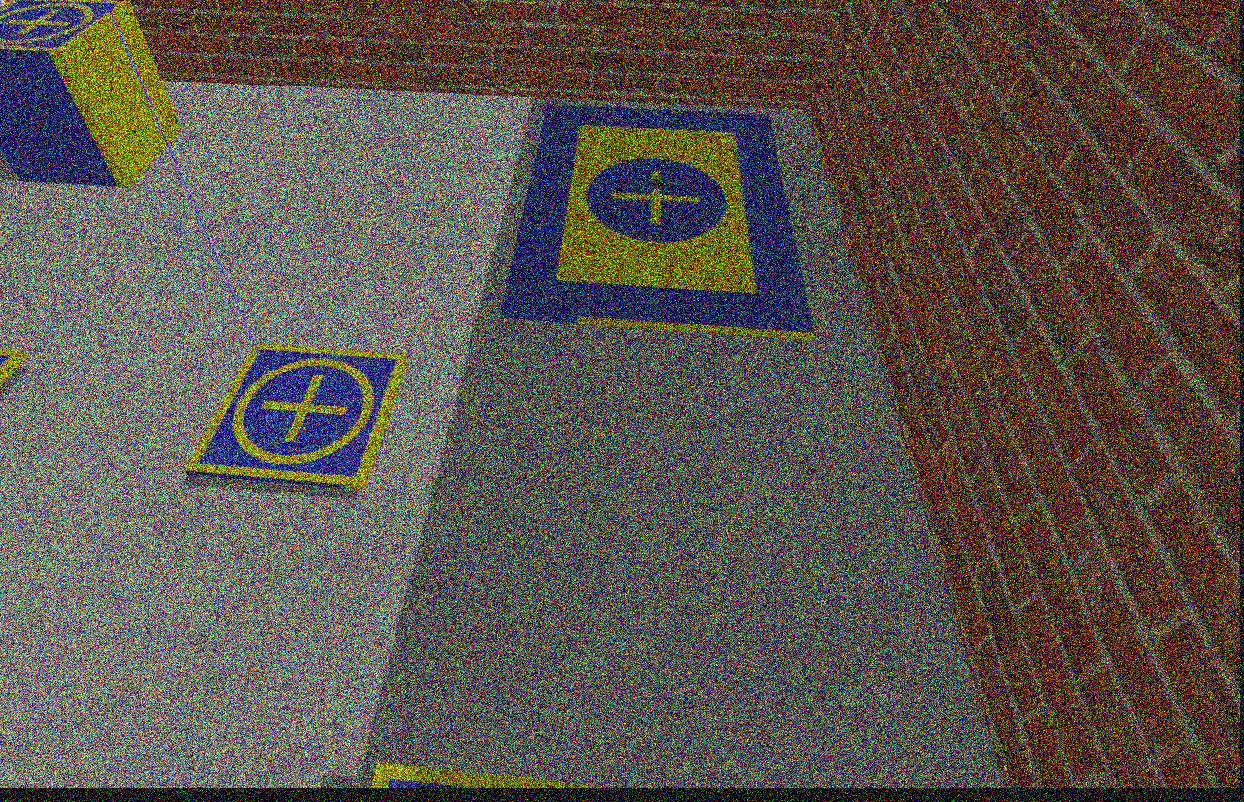large_base: (503, 100, 820, 340)
small_base: (184, 349, 415, 495), (0, 1, 133, 55)
